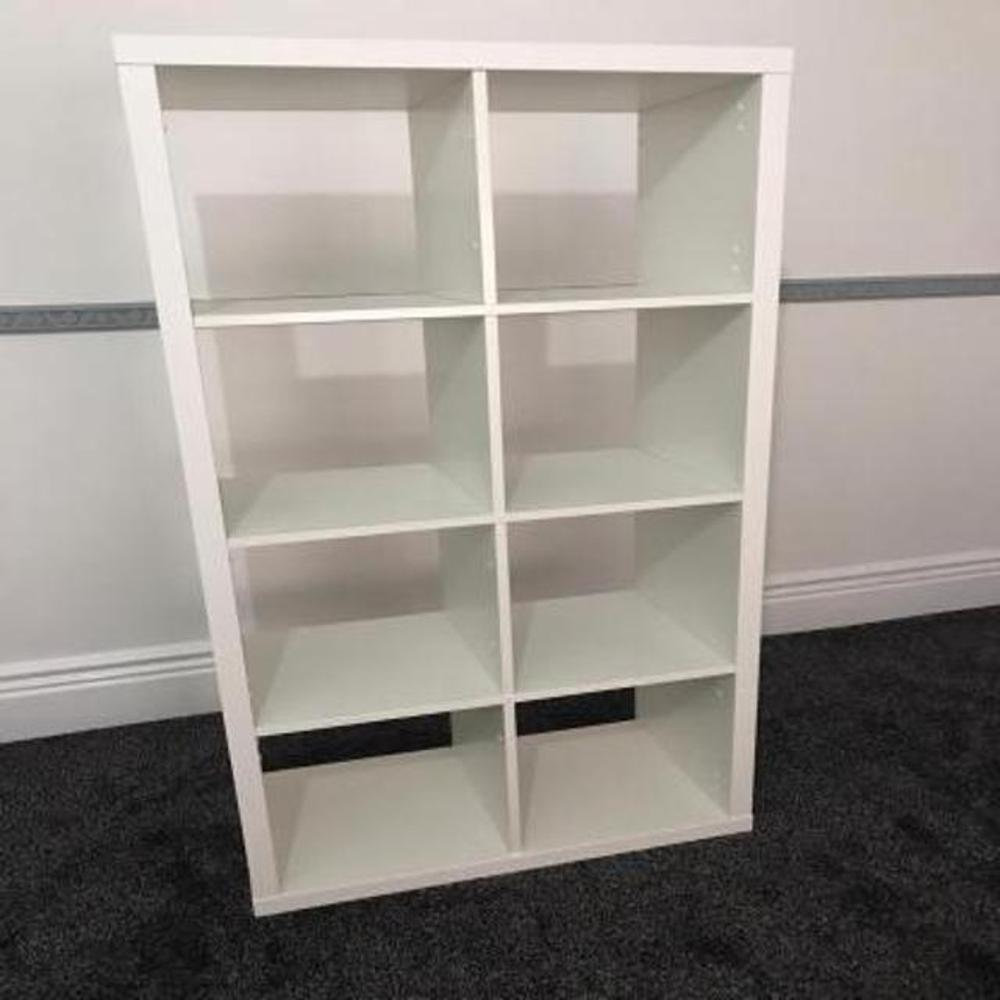lamp: (110, 32, 801, 922)
